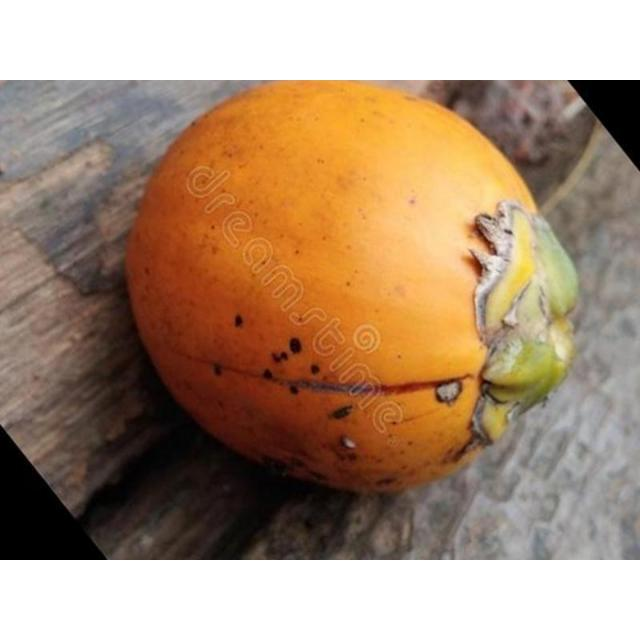good: (126, 80, 582, 497)
